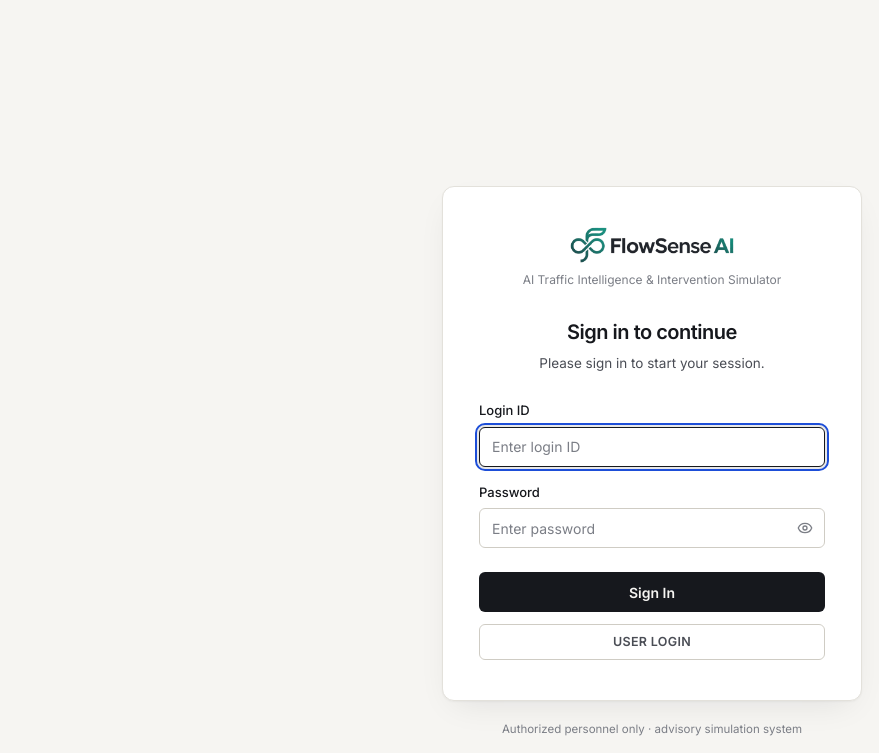
login page › correct credentials open the dashboard
Type "tgpolice" into the field labelled "Login ID".
click(652, 446); type("tgpolice")  # box x1=479 y1=426 x2=825 y2=466
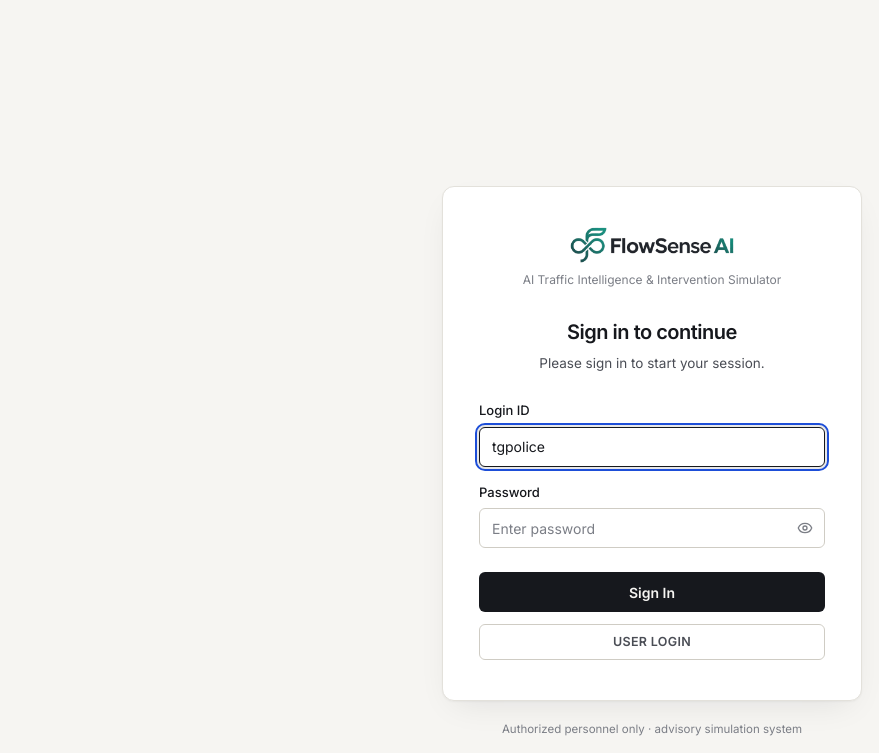
Type "tgpolice" into the password field labelled "Password".
click(652, 528); type("tgpolice")  # box x1=479 y1=508 x2=825 y2=548
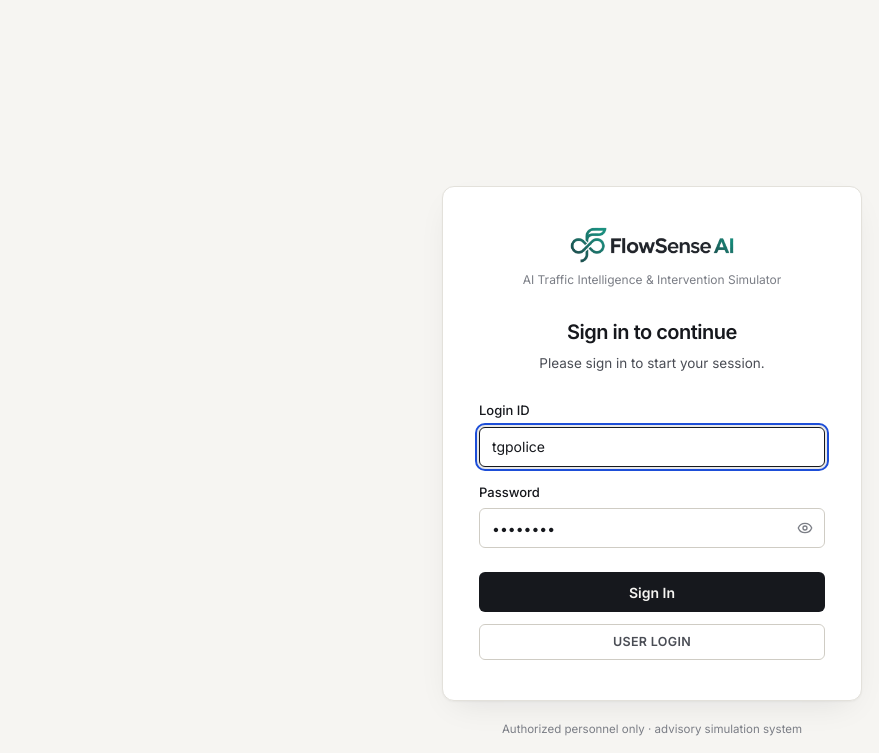
Click the button "Sign In".
click(652, 592)  # box x1=479 y1=572 x2=825 y2=612
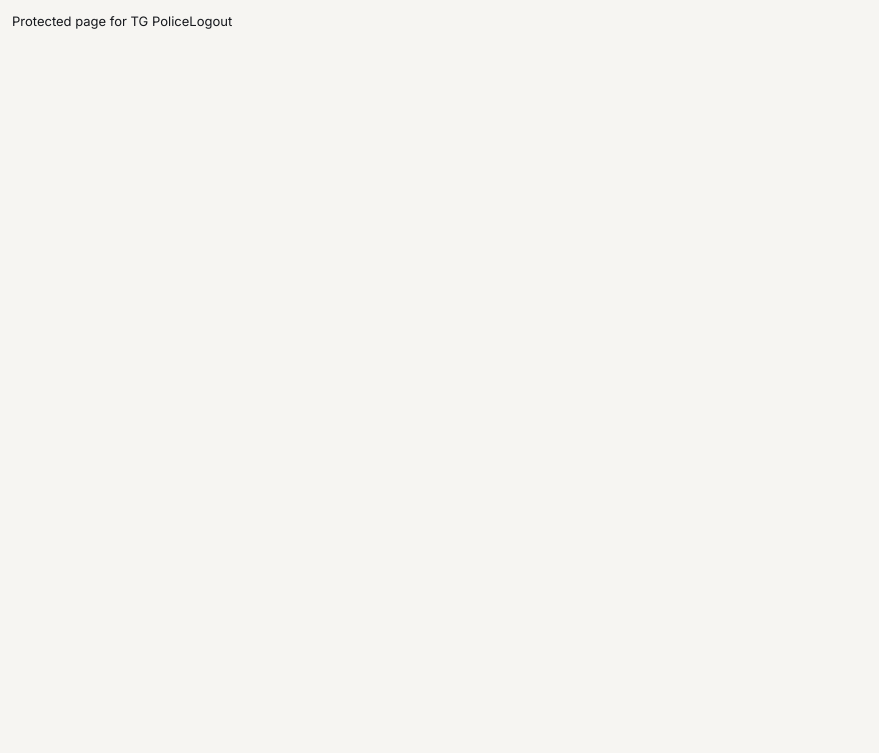
Expected: the text "Protected page for TG Police" is shown, x1=12 y1=13 x2=189 y2=29
